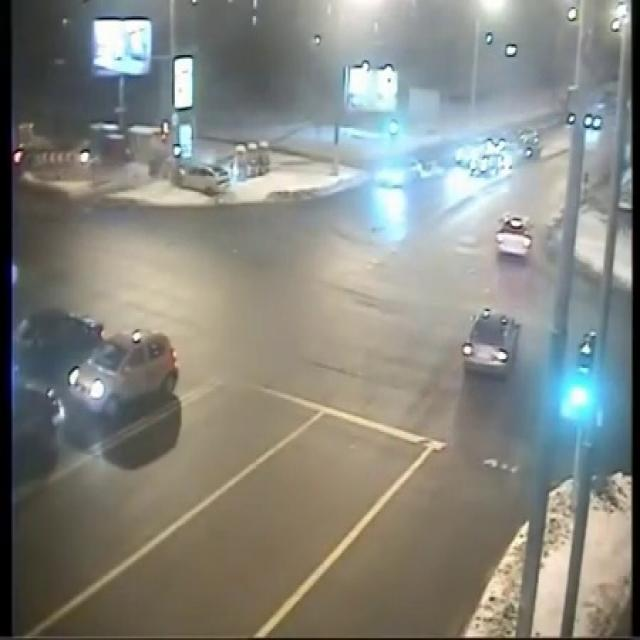accident: (153, 148, 236, 207)
